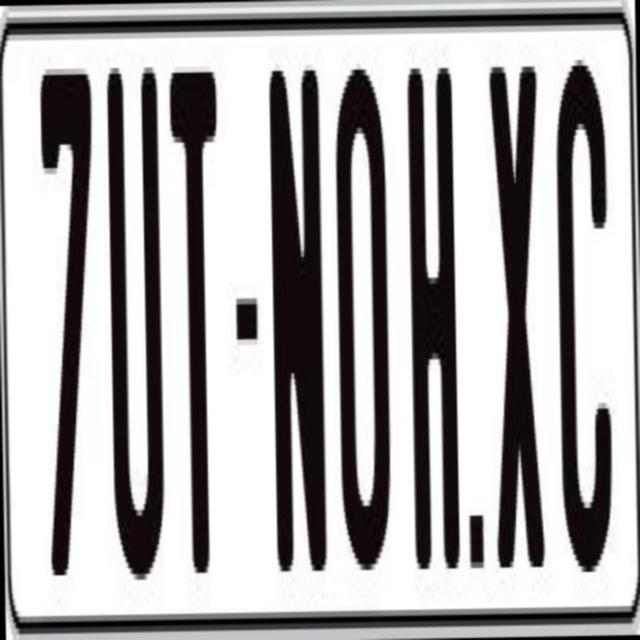0: (329, 51, 392, 558)
7: (36, 73, 101, 592)
C: (550, 59, 618, 596)
H: (405, 61, 464, 586)
N: (264, 64, 328, 589)
T: (166, 59, 225, 578)
U: (104, 49, 166, 580)
X: (489, 54, 549, 591)
